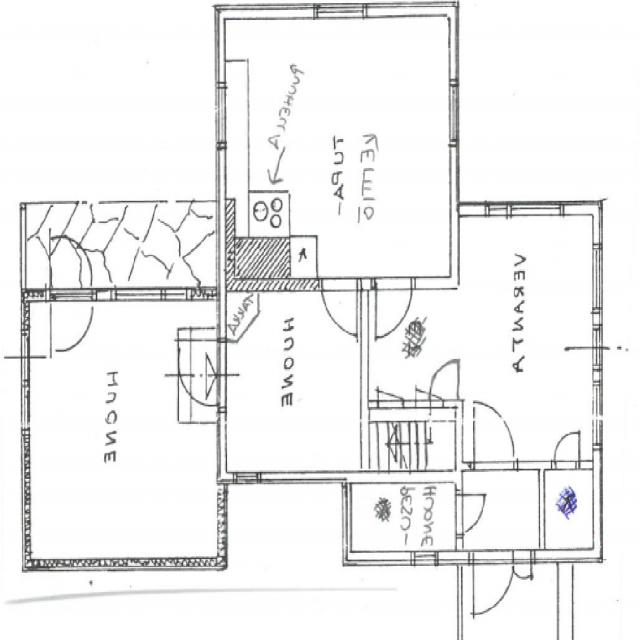door: (172, 345, 227, 405), (50, 230, 94, 301), (50, 288, 94, 359), (473, 552, 512, 616), (474, 407, 514, 467), (377, 277, 413, 336), (322, 277, 356, 335), (455, 494, 494, 534), (428, 366, 453, 408), (300, 540, 324, 583), (555, 428, 579, 467), (513, 551, 531, 589)
